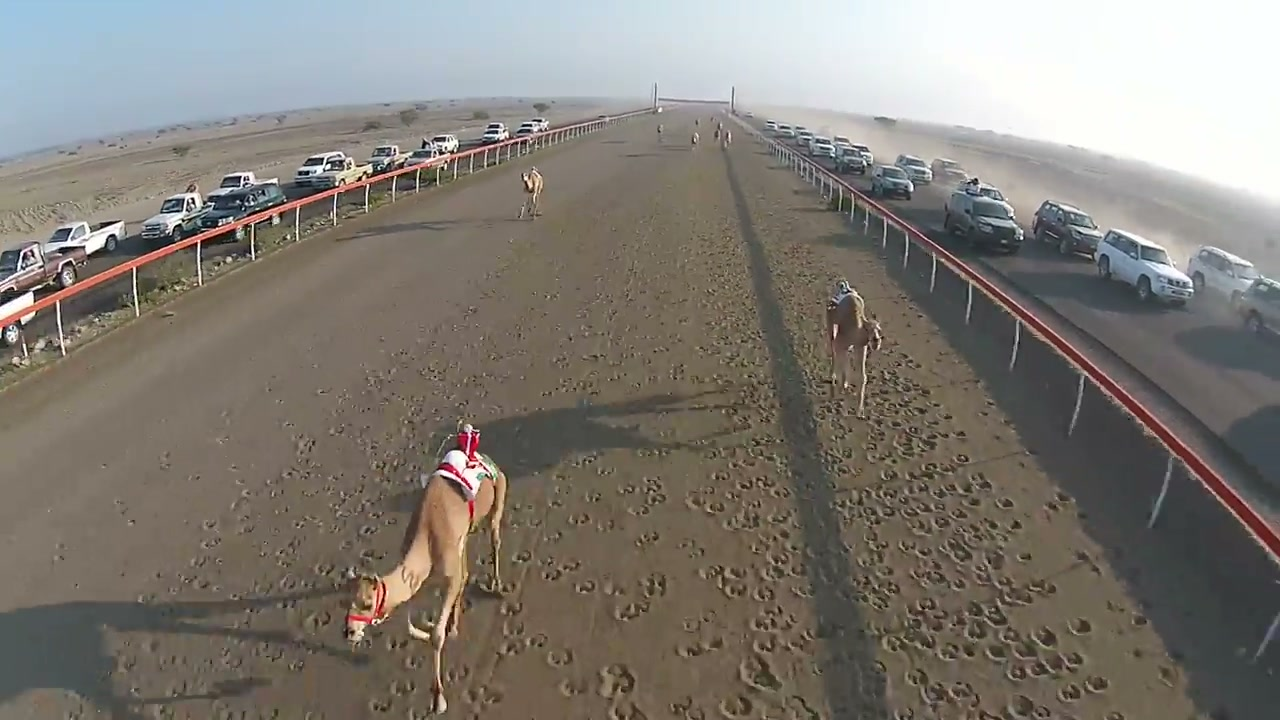animal_footprint: (124, 148, 1189, 719), (597, 664, 636, 699)
